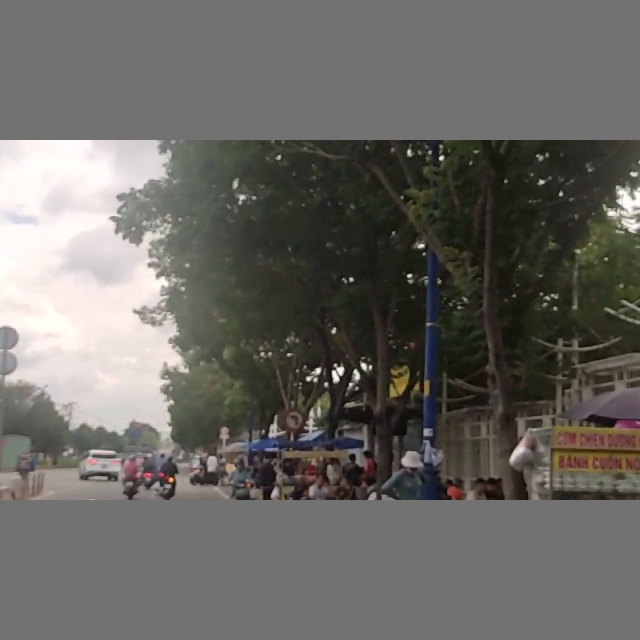P.123a: (282, 409, 308, 431)
